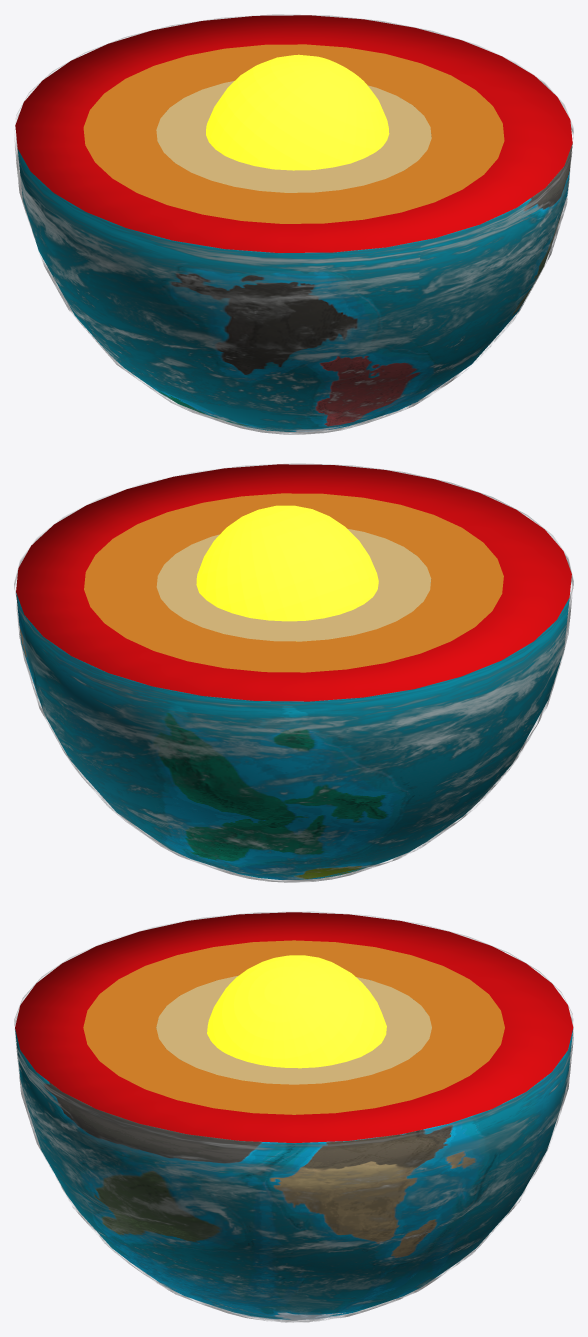
Rendered from world.glb.
The picture shows the model from 3 angles, top to bottom: view 1: azimuth 30°, elevation 25°; view 2: azimuth 150°, elevation 25°; view 3: azimuth 270°, elevation 25°; orthographic projection.
Visible parts, largest first — view 1: Sphere.001, Sphere.003, Sphere; view 2: Sphere.001, Sphere.003, Sphere; view 3: Sphere.001, Sphere.003, Sphere.
Part boxes in pixels (x1,y1,x2,y2): Sphere.001: (15, 15, 572, 431); Sphere.003: (15, 14, 573, 434); Sphere: (206, 54, 389, 170); Sphere.001: (16, 464, 571, 879); Sphere.003: (14, 463, 573, 882); Sphere: (196, 505, 378, 641); Sphere.001: (15, 912, 573, 1319); Sphere.003: (14, 912, 573, 1322); Sphere: (207, 955, 386, 1068).
Bounding box in the file's own units: 0.8786 × 0.5966 × 0.8973.
Materials: 6 (2 with a texture image).
